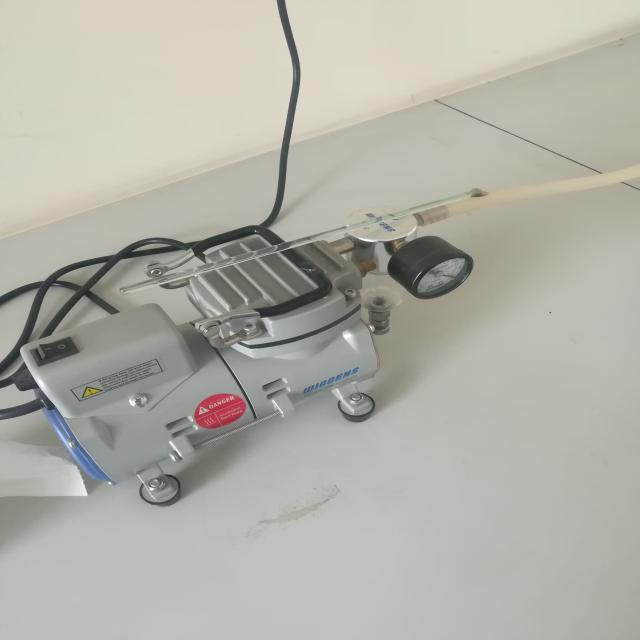Glass_Rod: (106, 176, 512, 309)
